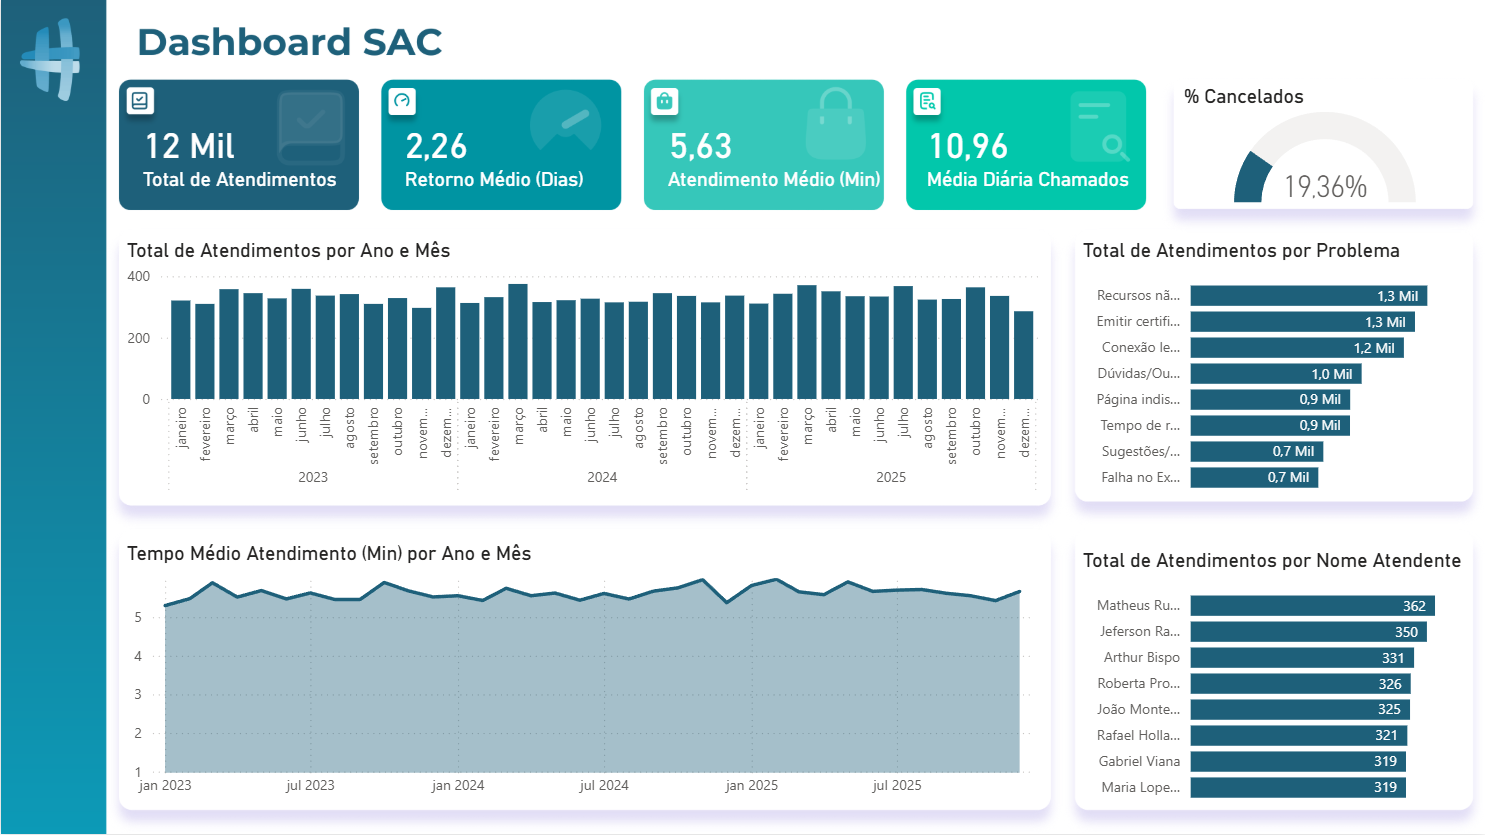

This screenshot's page, from the dashboard's own definition file:
{"tool":"powerbi","page":{"name":"Página 1","canvas":[1280,720],"ordinal":0},"visuals":[{"type":"cardVisual","fields":{"Data":["fOcorrencias.Total de Atendimentos"]},"box":[93.1,75.4,226.1,123.3],"z":0},{"type":"cardVisual","fields":{"Data":["fOcorrencias.Tempo Médio Retorno (Dias)"]},"box":[319.2,75.4,226.1,123.3],"z":1000},{"type":"cardVisual","fields":{"Data":["fOcorrencias.Tempo Médio Atendimento (Min)"]},"box":[545.3,75.4,243,123.3],"z":2000},{"type":"cardVisual","fields":{"Data":["fOcorrencias.Média Diária Chamados"]},"box":[768.8,75.4,234.1,123.3],"z":3000},{"type":"gauge","fields":{"Y":["fOcorrencias.% Cancelados"]},"box":[1014.6,73.6,253.4,107.4],"z":4000},{"type":"columnChart","fields":{"Y":["fOcorrencias.Total de Atendimentos"],"Category":["fOcorrencias.Data Chamado.Variation.Hierarquia de datas.Ano","fOcorrencias.Data Chamado.Variation.Hierarquia de datas.Mês"]},"box":[103.7,205.7,799.8,228.8],"z":5000},{"type":"areaChart","fields":{"Y":["fOcorrencias.Tempo Médio Atendimento (Min)"],"Category":["fOcorrencias.Data Chamado.Variation.Hierarquia de datas.Ano","fOcorrencias.Data Chamado.Variation.Hierarquia de datas.Mês"]},"box":[103.7,467.3,800.7,228.8],"z":6000},{"type":"barChart","fields":{"Y":["fOcorrencias.Total de Atendimentos"],"Category":["dProblema.Problema"]},"box":[927.5,205.7,340.5,229.7],"z":7000},{"type":"barChart","fields":{"Y":["fOcorrencias.Total de Atendimentos"],"Category":["dSuporte.Nome Atendente"]},"box":[927.5,473.5,340.5,229.7],"z":8000}]}

Visuals, with their boxes in screenshot pixels (x1, y1, x2, y2), scaled from the page's 1280x720 canvas onto the 1485x835 screenshot:
cardVisual - fOcorrencias.Total de Atendimentos: rect(108, 87, 370, 230)
cardVisual - fOcorrencias.Tempo Médio Retorno (Dias): rect(370, 87, 633, 230)
cardVisual - fOcorrencias.Tempo Médio Atendimento (Min): rect(633, 87, 915, 230)
cardVisual - fOcorrencias.Média Diária Chamados: rect(892, 87, 1164, 230)
gauge - fOcorrencias.% Cancelados: rect(1177, 85, 1471, 210)
columnChart - fOcorrencias.Total de Atendimentos x fOcorrencias.Data Chamado.Variation.Hierarquia de datas.Ano: rect(120, 239, 1048, 504)
areaChart - fOcorrencias.Tempo Médio Atendimento (Min) x fOcorrencias.Data Chamado.Variation.Hierarquia de datas.Ano: rect(120, 542, 1049, 807)
barChart - fOcorrencias.Total de Atendimentos x dProblema.Problema: rect(1076, 239, 1471, 505)
barChart - fOcorrencias.Total de Atendimentos x dSuporte.Nome Atendente: rect(1076, 549, 1471, 816)
